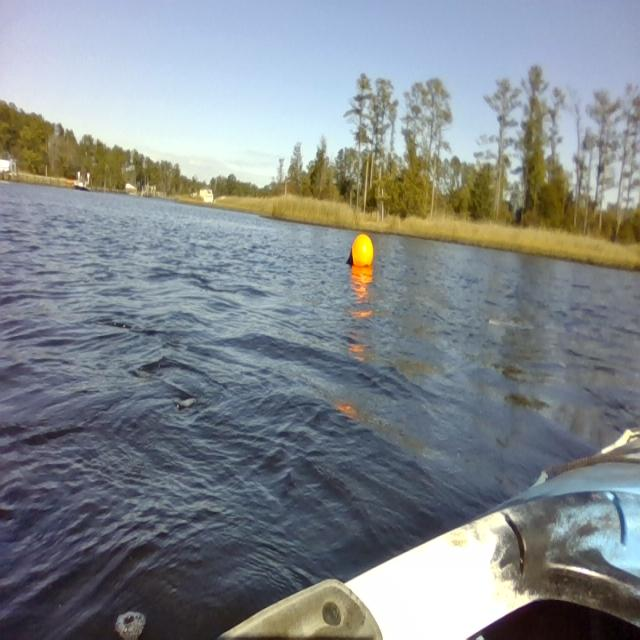Buoy: (345, 228, 377, 278)
